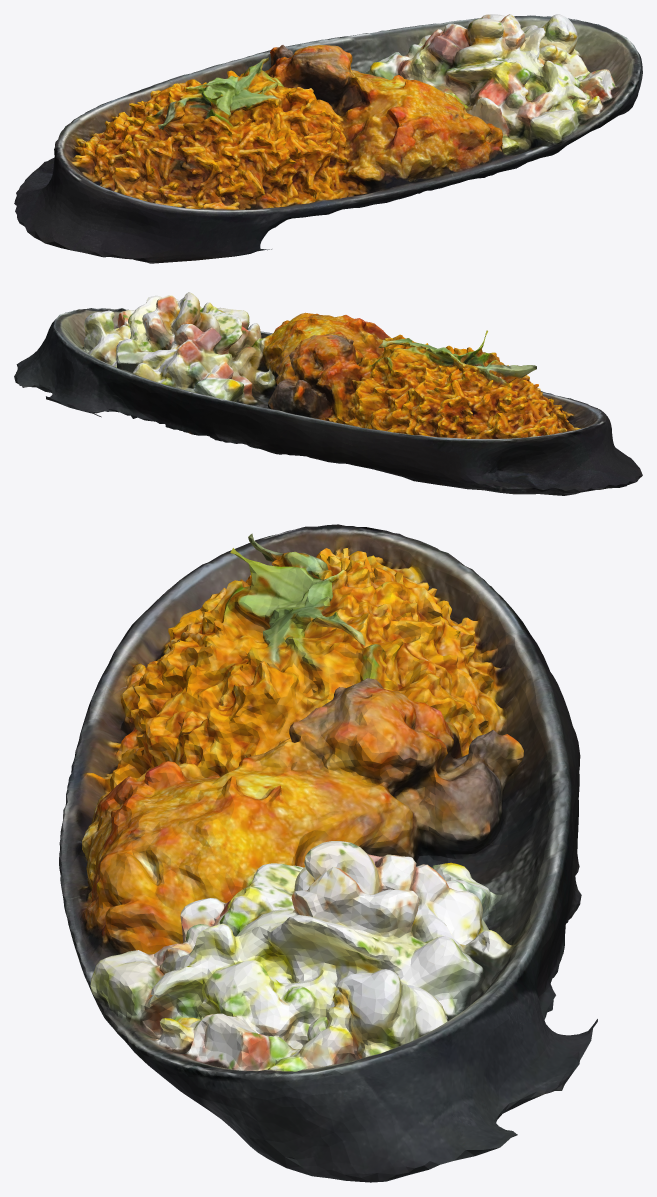
Rendered from jollof-rice-plantain.glb.
The picture shows the model from 3 angles, top to bottom: view 1: azimuth 30°, elevation 25°; view 2: azimuth 150°, elevation 25°; view 3: azimuth 270°, elevation 25°; orthographic projection. The views are drawn at different scales.
Bounding box in the file's own units: 0.9576 × 0.1869 × 0.3798.
Materials: 1 (1 with a texture image).
